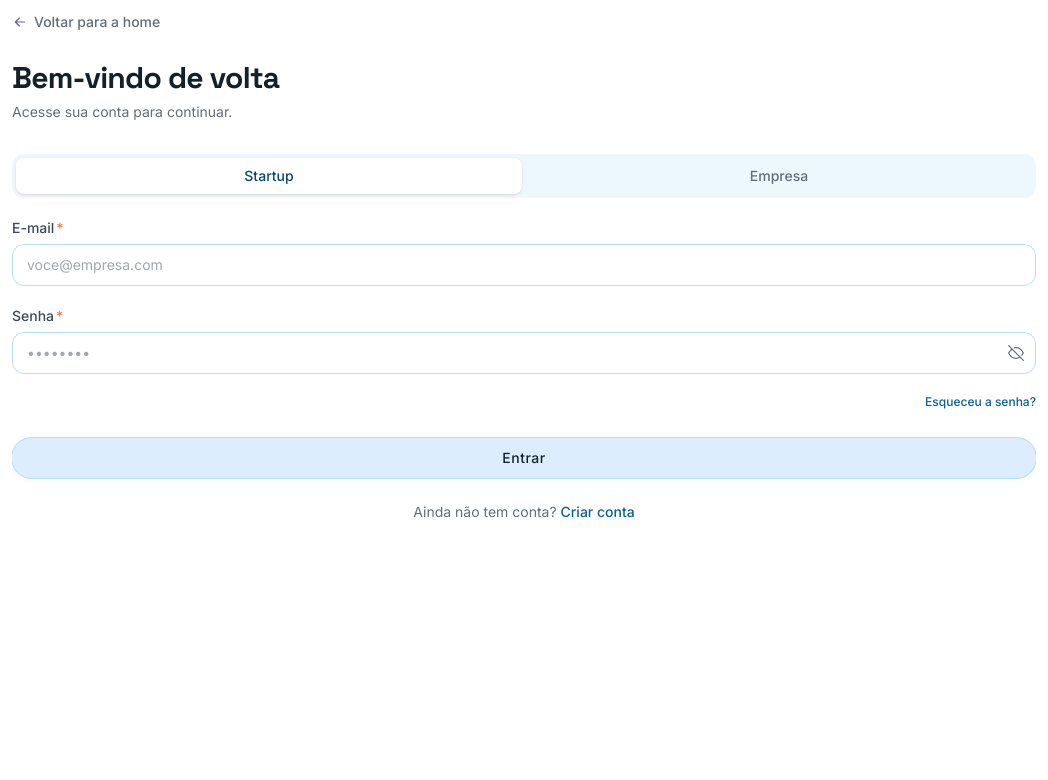
Fluxo de Login - FormularioLogin › deve exibir mensagem de erro amigável ao receber 401 (credenciais incorretas)
Type "errado@email.com" into the field labelled "E-mail*". click: (524, 265)
box: x1=12 y1=244 x2=1036 y2=286
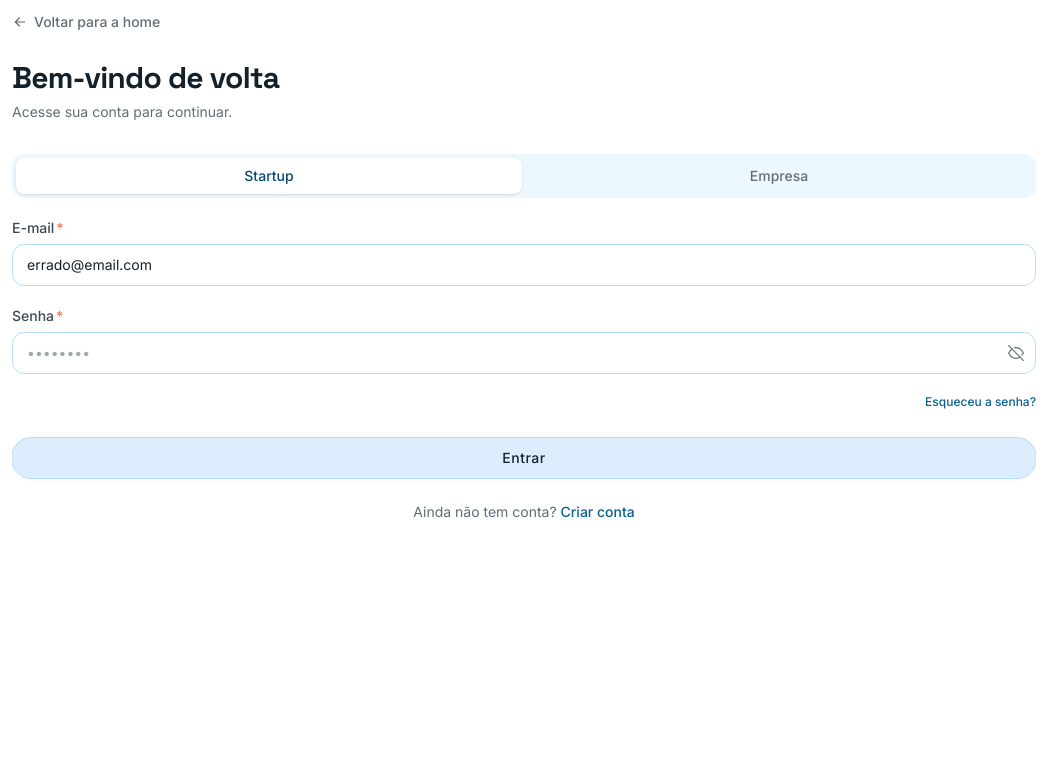
Type "senhaerrada" into the password field labelled "Senha*". click: (524, 353)
box: x1=12 y1=332 x2=1036 y2=374
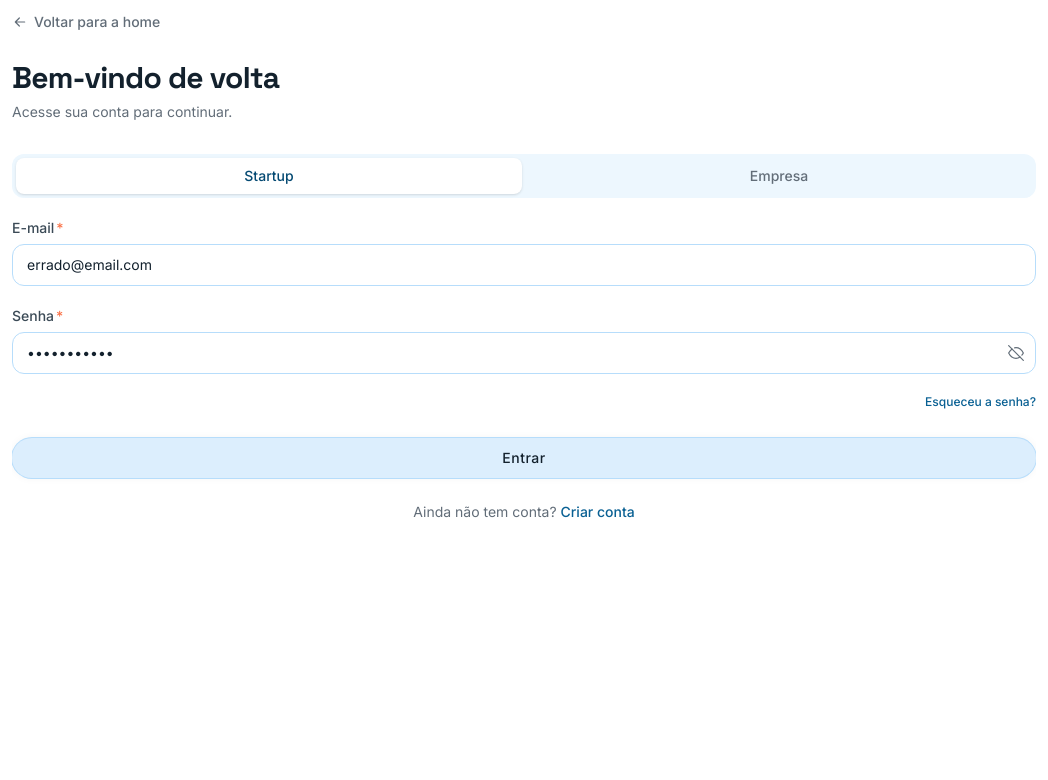
Click the button "Entrar". click: (524, 458)
box: x1=12 y1=438 x2=1036 y2=478
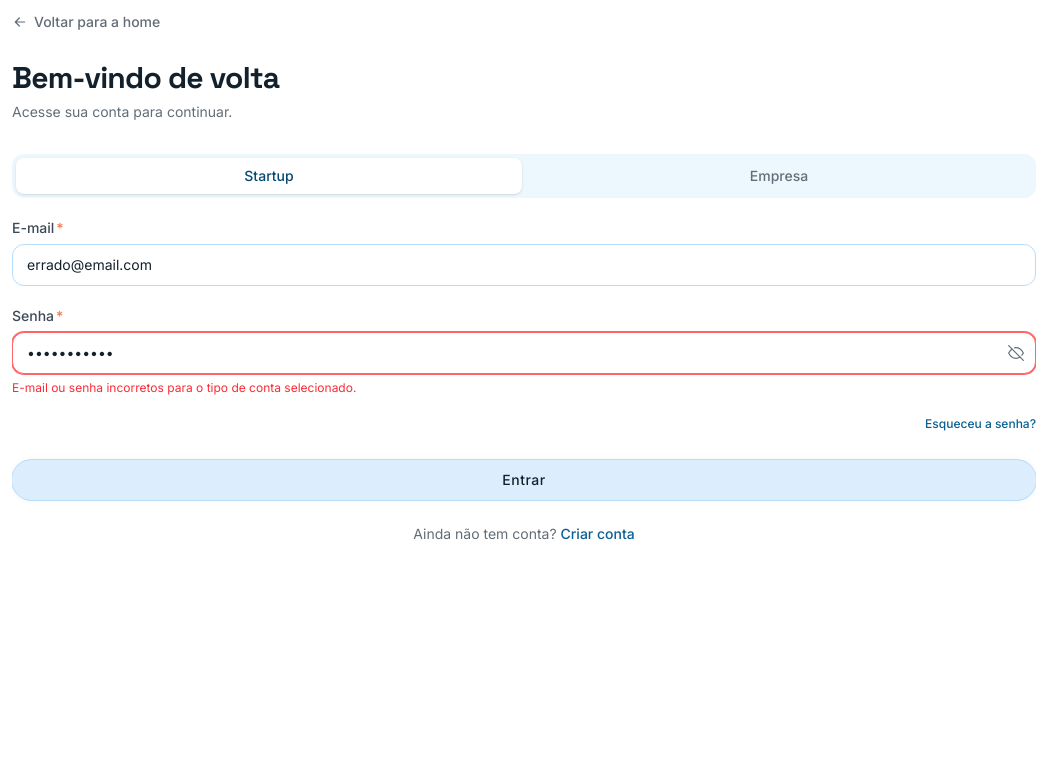
Now the text "E-mail ou senha incorretos para o tipo de conta selecionado." is shown, box x1=12 y1=380 x2=356 y2=395
